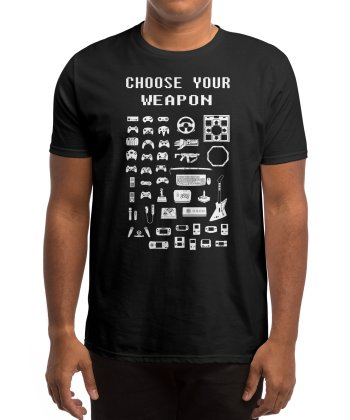design: (118, 70, 236, 258)
